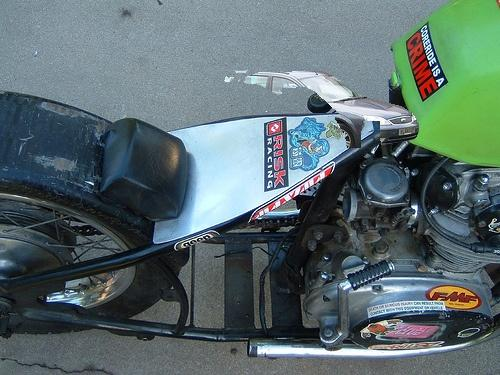tampered: (225, 71, 419, 148)
